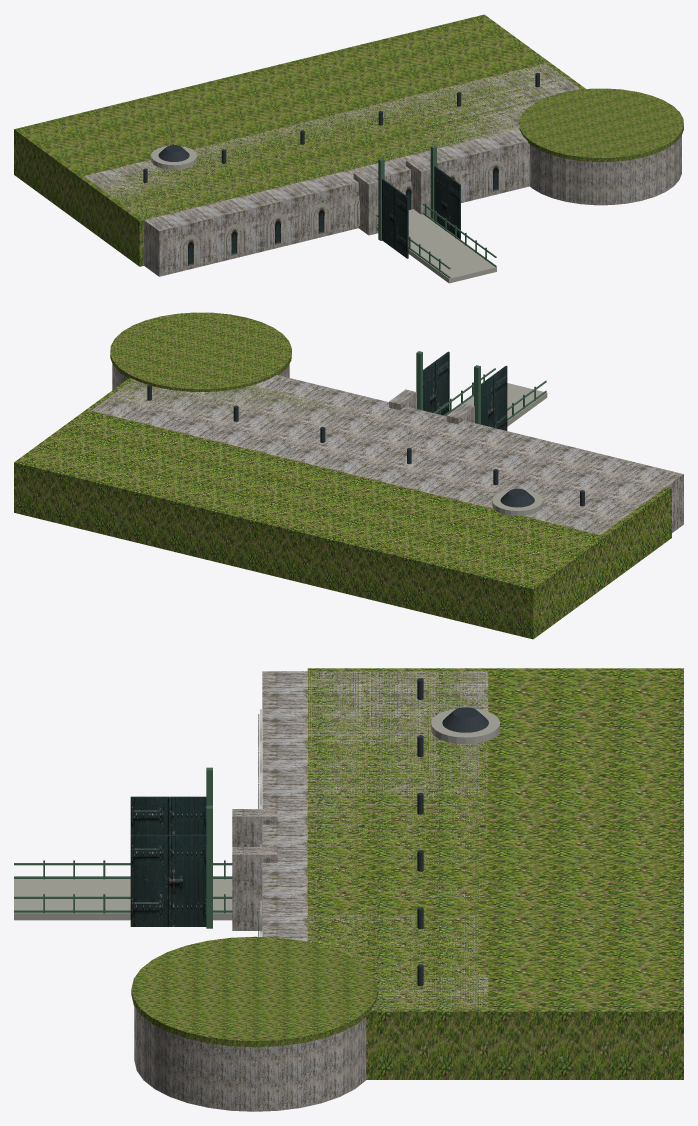
The model's file is uithoorn-fort-aan-de-drecht.glb.
3 views of the same model, one above another, from view 1: azimuth 30°, elevation 25°; view 2: azimuth 150°, elevation 25°; view 3: azimuth 270°, elevation 25° (orthographic). The views are drawn at different scales.
Parts seen in each view (by area): view 1: Uithoorn_fort-aan-de-drecht; view 2: Uithoorn_fort-aan-de-drecht; view 3: Uithoorn_fort-aan-de-drecht.
Part boxes in pixels (x1=…): Uithoorn_fort-aan-de-drecht: x1=14, y1=14, x2=683, y2=283; Uithoorn_fort-aan-de-drecht: x1=14, y1=312, x2=683, y2=639; Uithoorn_fort-aan-de-drecht: x1=14, y1=668, x2=683, y2=1111.
Bounding box in the file's own units: 59.2 × 8.8 × 44.5.
Materials: 7 (4 with a texture image).
